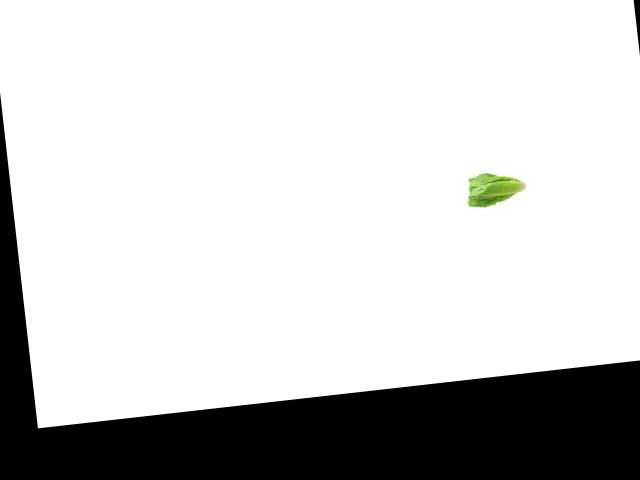lettuce: (461, 163, 530, 214)
